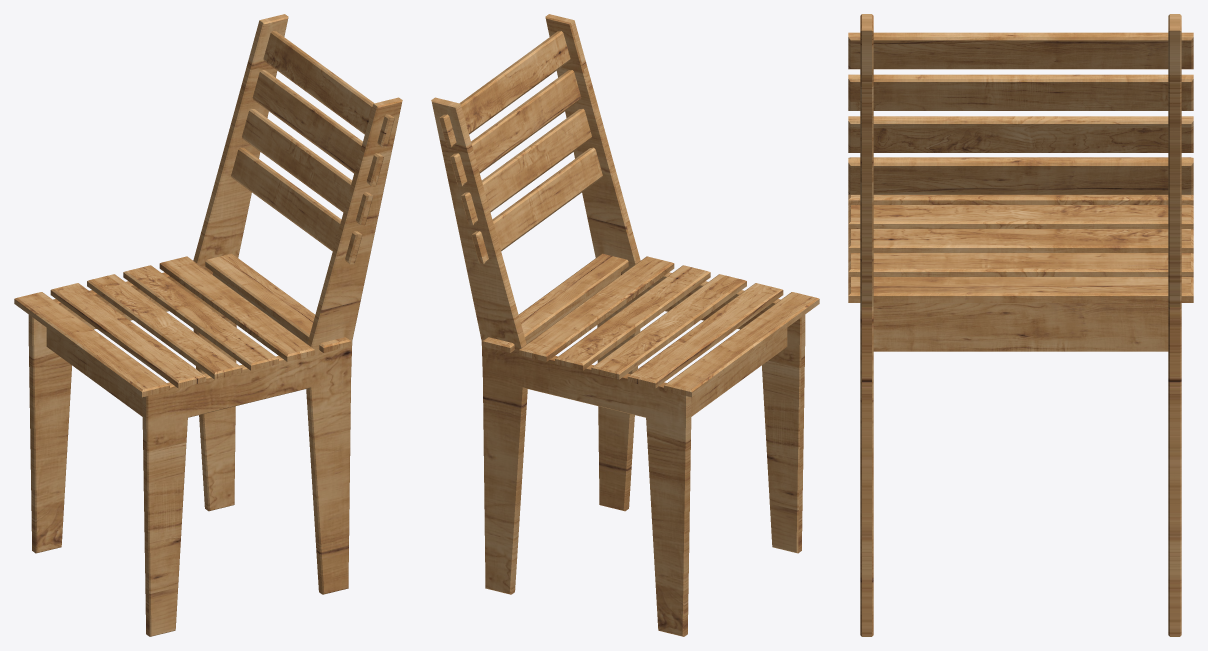
The model's file is table_chair.dae.
3 renders of one model, left to right at view 1: azimuth 30°, elevation 25°; view 2: azimuth 150°, elevation 25°; view 3: azimuth 270°, elevation 25°, orthographic. The views are drawn at different scales.
Visible parts, largest first — view 1: chair; view 2: chair; view 3: chair.
Part boxes in pixels (<box>): chair: <box>14,14,402,636</box>; chair: <box>431,14,819,636</box>; chair: <box>848,14,1193,636</box>.
Bounding box in the file's own units: 0.6964 × 0.5803 × 1.19.
1 material, 1 textured.
